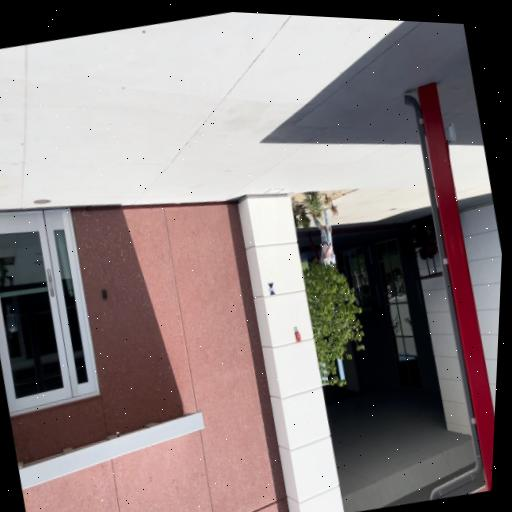target9: (266, 280, 276, 295)
